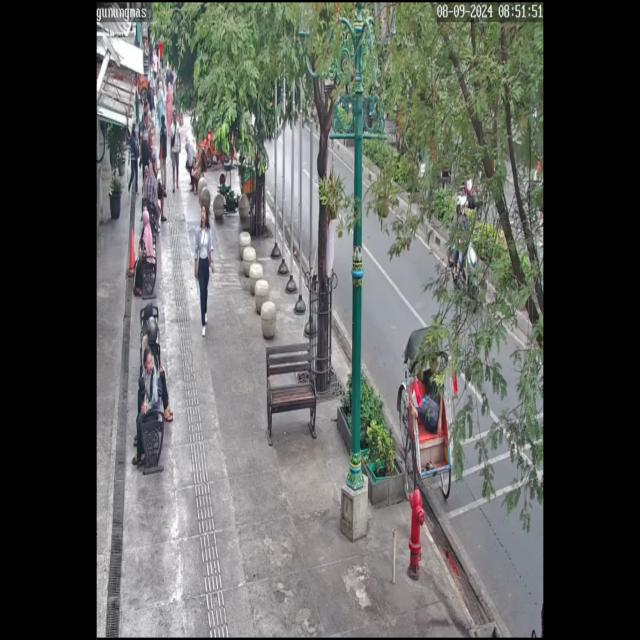Motorcycle: (444, 190, 484, 312)
